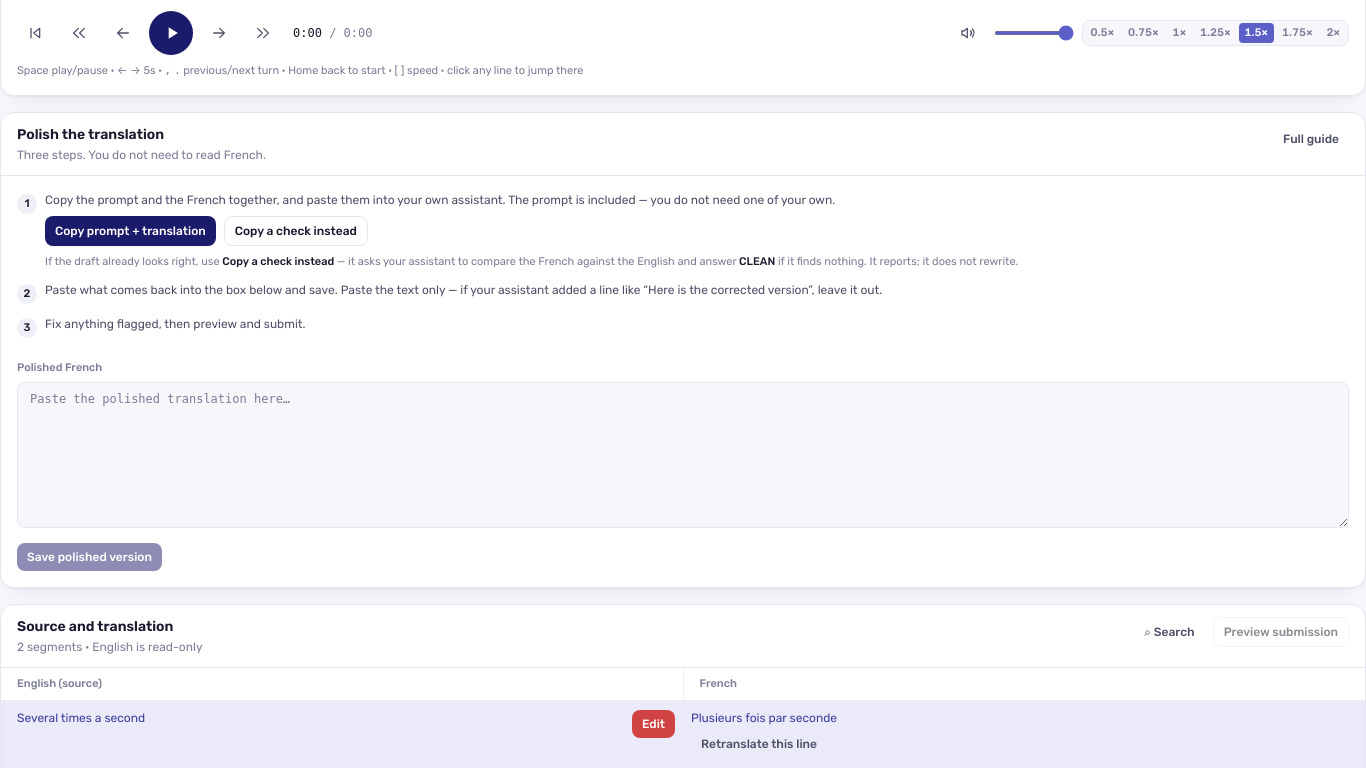
retranslating a single line › replaces the row with the fresh translation, not a copy sitting beside it
(page scrolled)
Expected: the text "Plusieurs fois par seconde" is shown, [691,710,837,726]
Click the button "Retranslate this line": (759,744) [691,730,827,758]
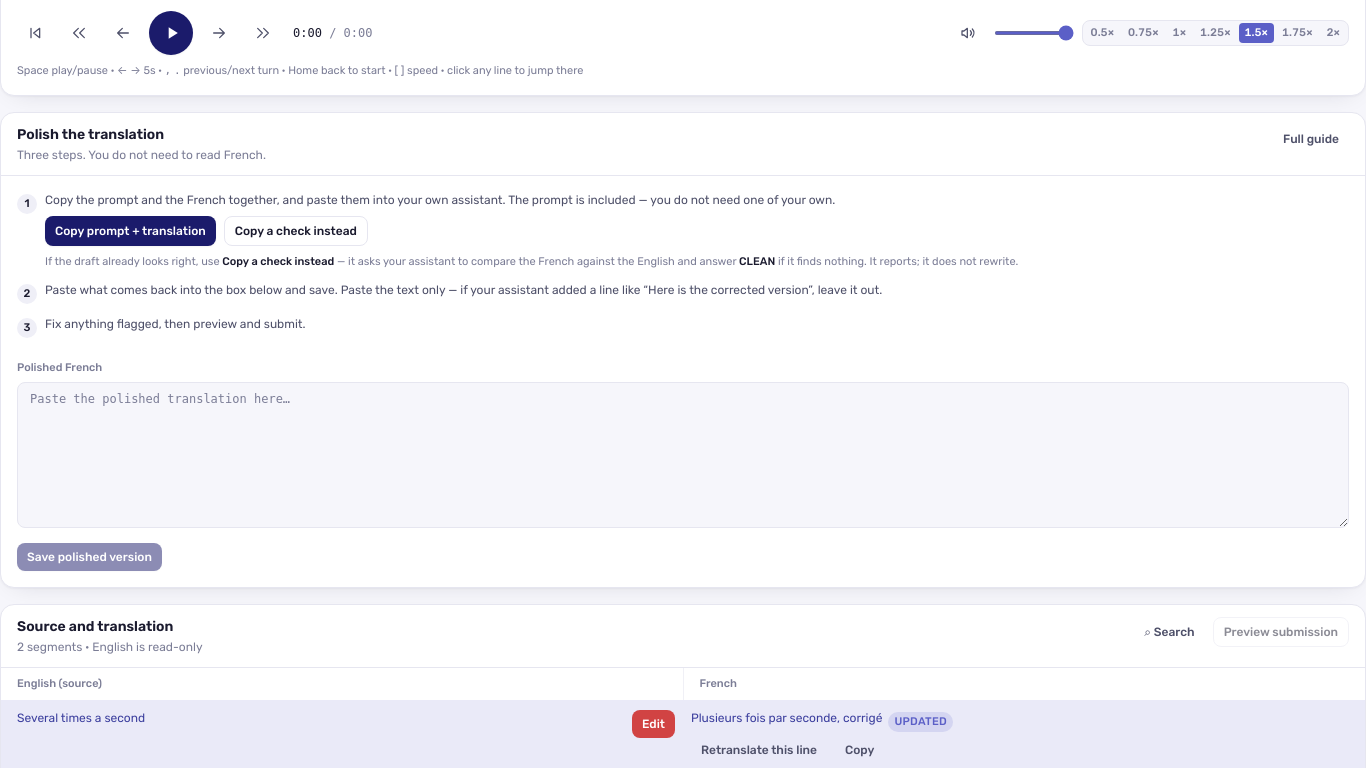
Result: the text "Plusieurs fois par seconde, corrigé" is shown at [691,710,882,726]
Result: the text "updated" is shown at [888,712,953,732]
